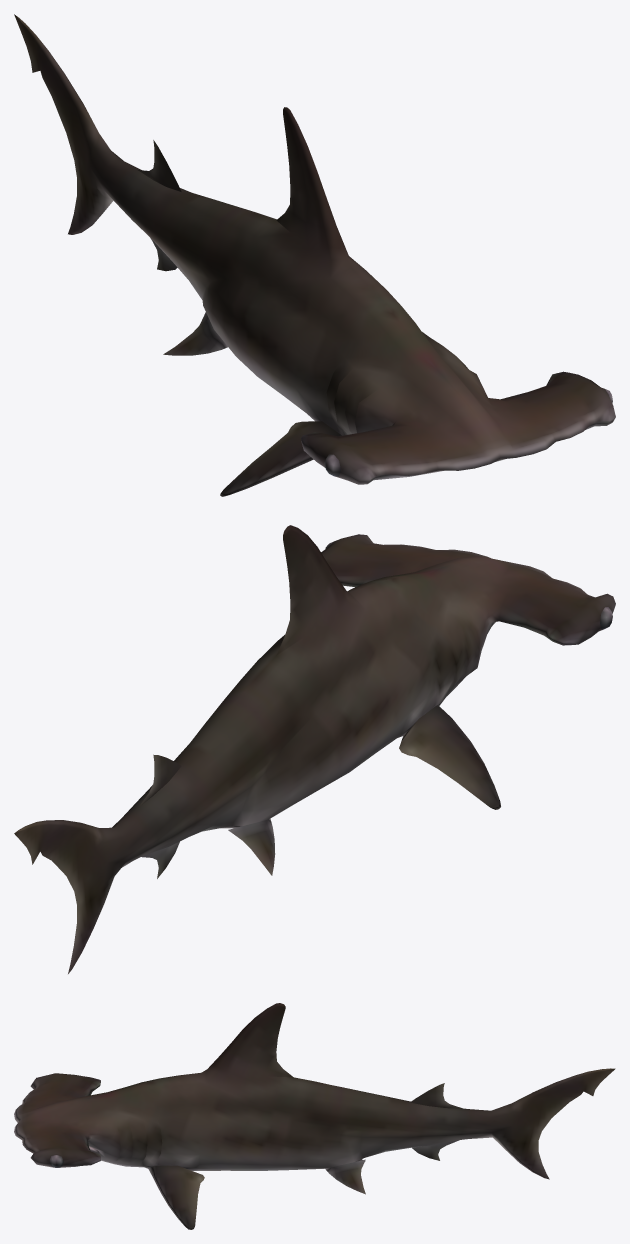
The model's file is hammerhead-shark.glb.
The picture shows the model from 3 angles, top to bottom: view 1: azimuth 30°, elevation 25°; view 2: azimuth 150°, elevation 25°; view 3: azimuth 270°, elevation 25°; orthographic projection. The views are drawn at different scales.
Size of the model in its own units: 9.14 by 9.22 by 27.16.
1 material, 1 textured.
